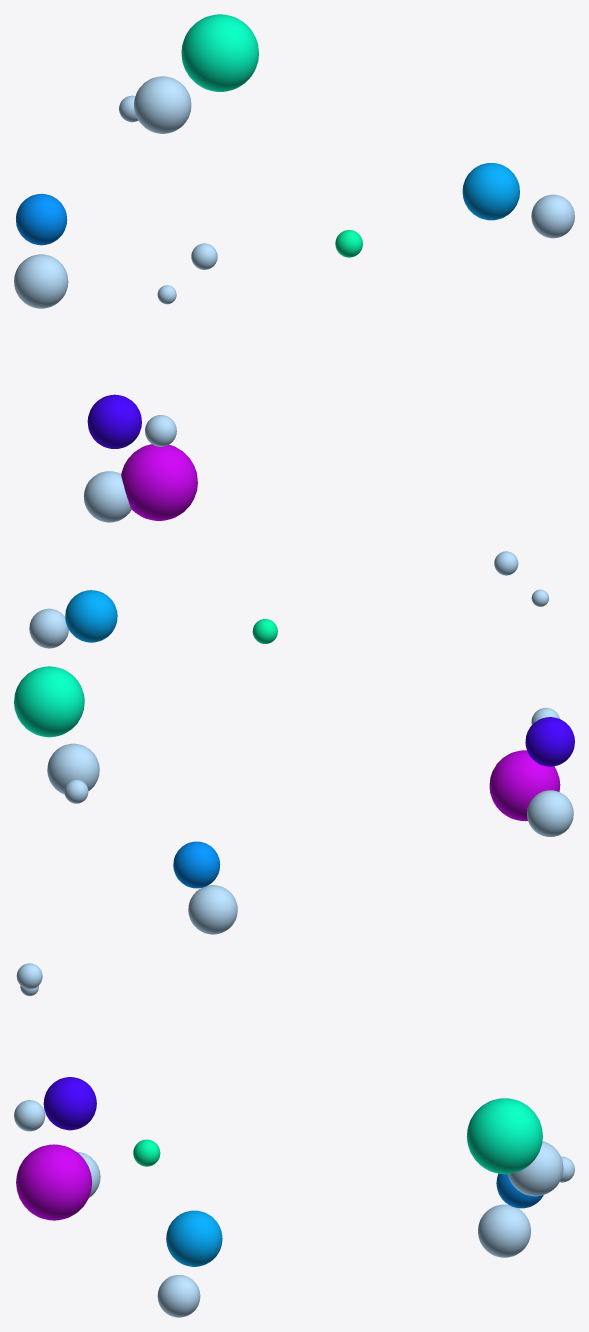
Rendered from bubble.glb.
3 renders of one model, top to bottom at view 1: azimuth 30°, elevation 25°; view 2: azimuth 150°, elevation 25°; view 3: azimuth 270°, elevation 25°, orthographic. The views are drawn at different scales.
Visible parts, largest first — view 1: Sphere.009, Sphere.002, Sphere.010, Sphere.001, Sphere.012, Sphere.003, Sphere.013, Sphere.005, Sphere.006, Sphere.004; view 2: Sphere.009, Sphere.002, Sphere.001, Sphere.012, Sphere.003, Sphere.010, Sphere.013, Sphere.005, Sphere.006, Sphere; view 3: Sphere.002, Sphere.009, Sphere.001, Sphere.012, Sphere.003, Sphere.010, Sphere.006, Sphere.013, Sphere.004, Sphere, Sphere.008.
Part boxes in pixels (box(x1,y1,x2,y2)): Sphere.009: box(181, 14, 258, 91); Sphere.002: box(121, 444, 197, 520); Sphere.010: box(134, 76, 191, 133); Sphere.001: box(462, 163, 519, 220); Sphere.012: box(14, 254, 68, 308); Sphere.003: box(87, 394, 141, 448); Sphere.013: box(16, 193, 67, 245); Sphere.005: box(83, 471, 131, 522); Sphere.006: box(531, 194, 574, 238); Sphere.004: box(145, 415, 176, 446); Sphere.009: box(14, 666, 84, 737); Sphere.002: box(489, 750, 560, 821); Sphere.001: box(65, 590, 117, 642); Sphere.012: box(188, 885, 237, 934); Sphere.003: box(525, 717, 574, 766); Sphere.010: box(47, 743, 99, 794); Sphere.013: box(173, 841, 220, 888); Sphere.005: box(527, 790, 573, 836); Sphere.006: box(29, 608, 68, 648); Sphere: box(252, 619, 277, 643); Sphere.002: box(16, 1144, 92, 1220); Sphere.009: box(466, 1098, 542, 1174); Sphere.001: box(166, 1210, 222, 1266); Sphere.012: box(478, 1204, 530, 1257); Sphere.003: box(43, 1077, 96, 1130); Sphere.010: box(508, 1141, 563, 1196); Sphere.006: box(157, 1275, 200, 1317); Sphere.013: box(496, 1173, 543, 1208); Sphere.004: box(14, 1100, 45, 1131); Sphere: box(133, 1139, 160, 1166); Sphere.008: box(16, 963, 42, 989).
Bounding box in the file's own units: 7.09 × 3.46 × 6.54.
